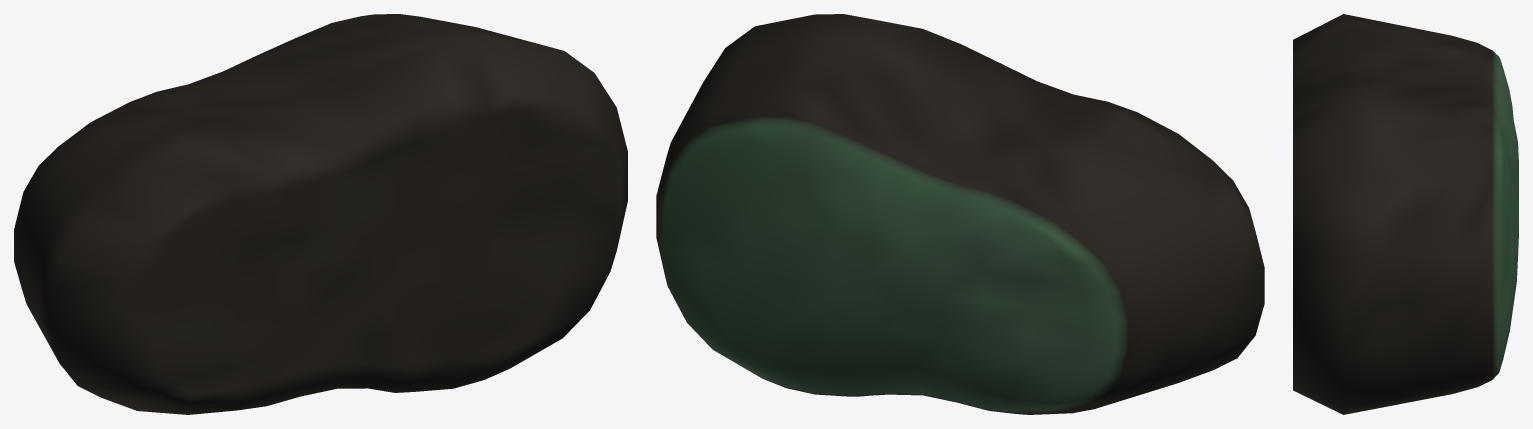
Rendered from GreenHillMedium.002.glb.
The picture shows the model from 3 angles, left to right: view 1: azimuth 30°, elevation 25°; view 2: azimuth 150°, elevation 25°; view 3: azimuth 270°, elevation 25°; orthographic projection. The views are drawn at different scales.
Parts seen in each view (by area): view 1: GreenHillMedium.002; view 2: GreenHillMedium.002; view 3: GreenHillMedium.002.
Boxes of the visible parts, bbox=[...] form: GreenHillMedium.002: bbox=[14, 14, 627, 414]; GreenHillMedium.002: bbox=[656, 14, 1264, 414]; GreenHillMedium.002: bbox=[1293, 14, 1518, 414].
Size of the model in its own units: 4471 by 2544 by 1750.
